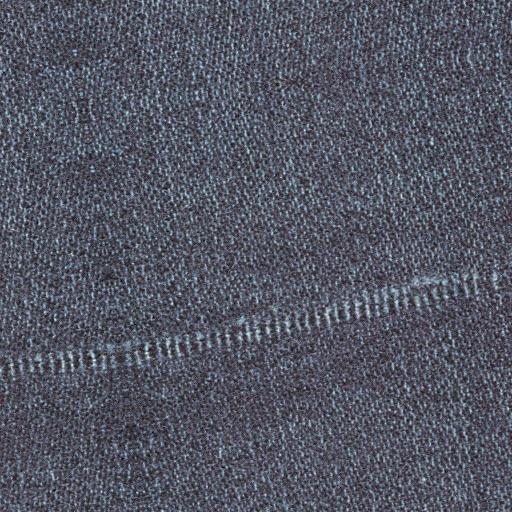slub: (3, 256, 502, 414)
